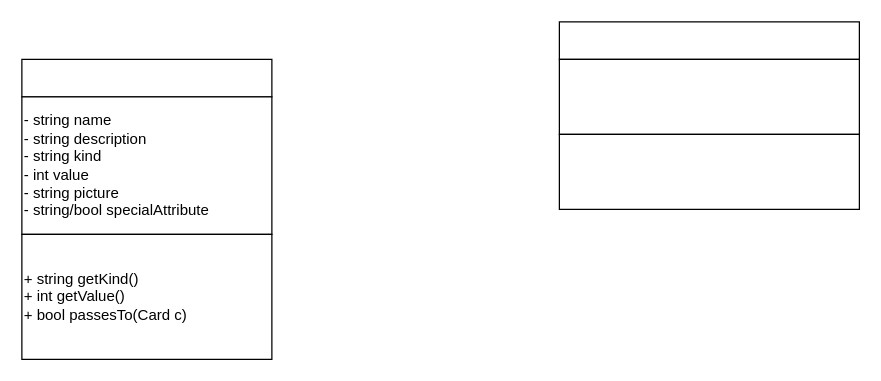
The diagram is 881 pixels wide and 381 high, and some of its shapes have lost their labels. The box of each missing label's shape, as (x1, y1, x2, y2) in pixels:
Card: (21, 58, 272, 97)
Game: (558, 21, 859, 59)
